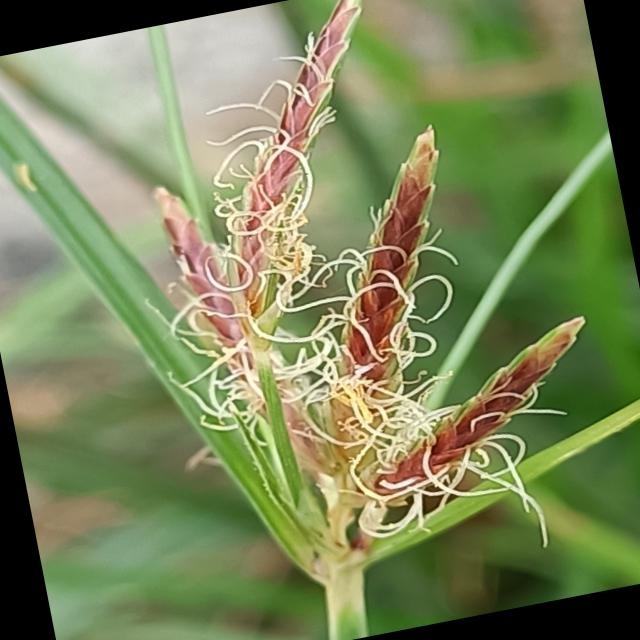cyperus: (100, 0, 627, 575)
